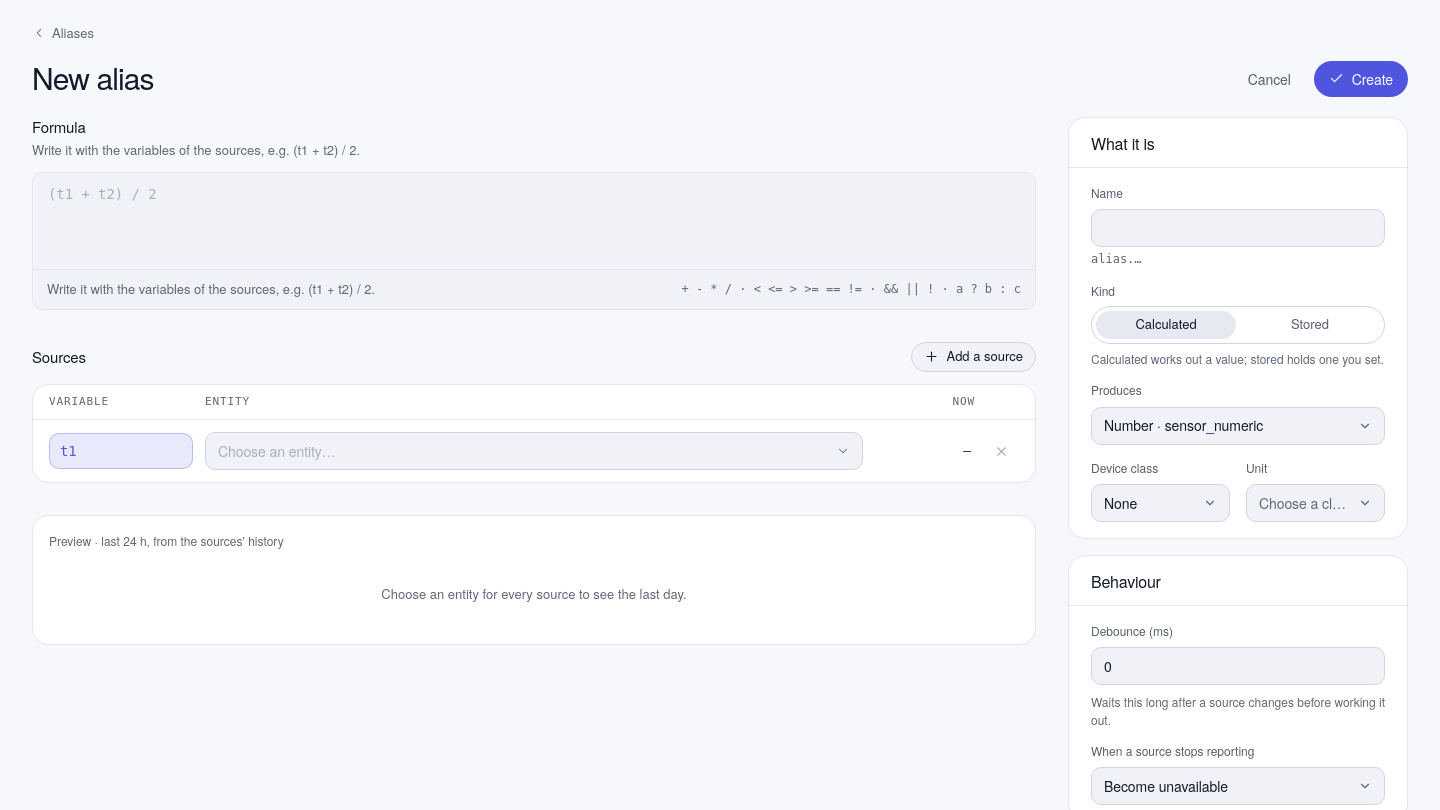
Test case: AliasEditor › selects the class canonical unit when the device class changes
This screenshot has width=1440, height=810.
expect the field labelled "Name" is shown: met, box [1091,209,1385,247]
Click the dropdown labelled "None" at x=1160, y=503, box [1091,484,1230,522]
(page scrolled)
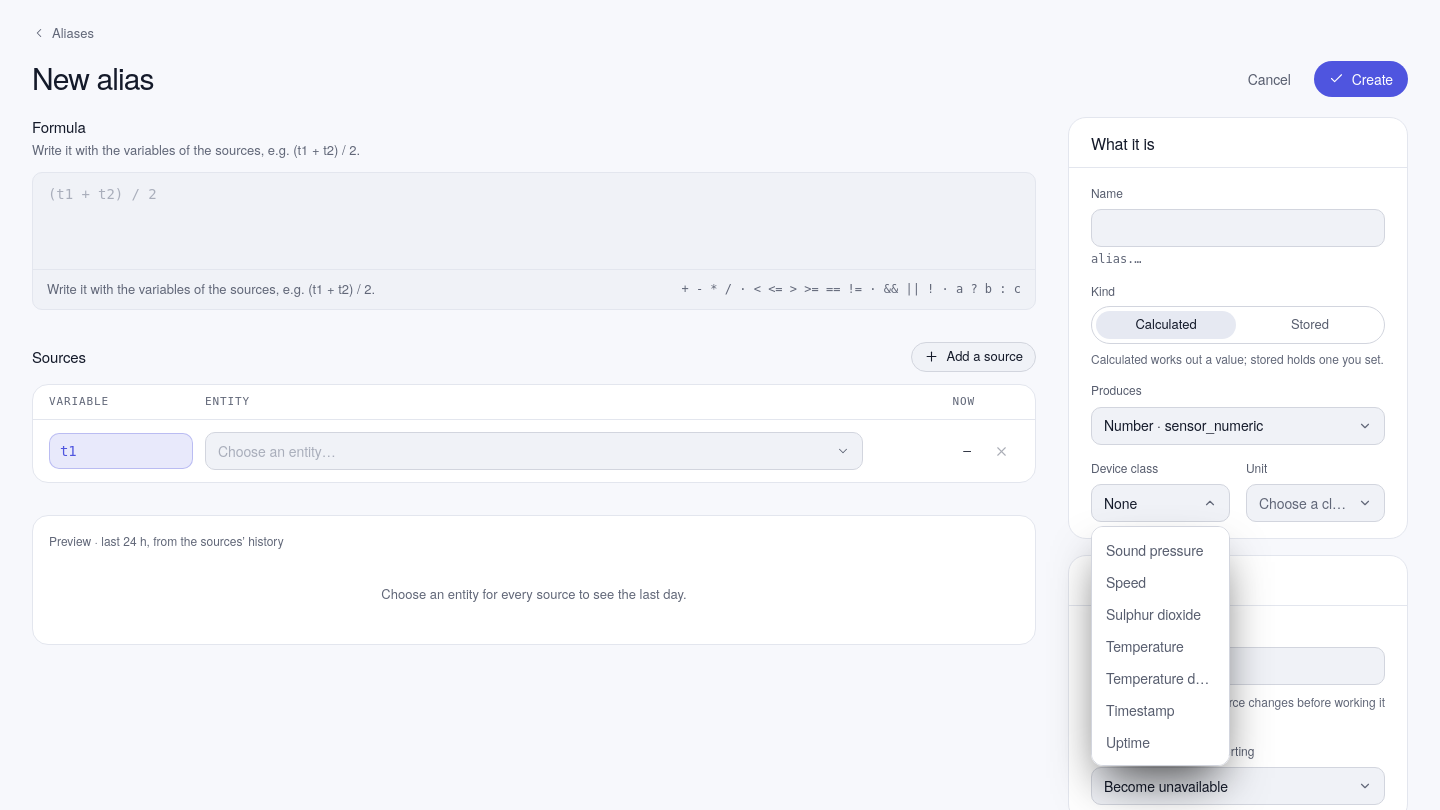
Click the option "Temperature" at x=1145, y=646, box [1106,636,1184,656]
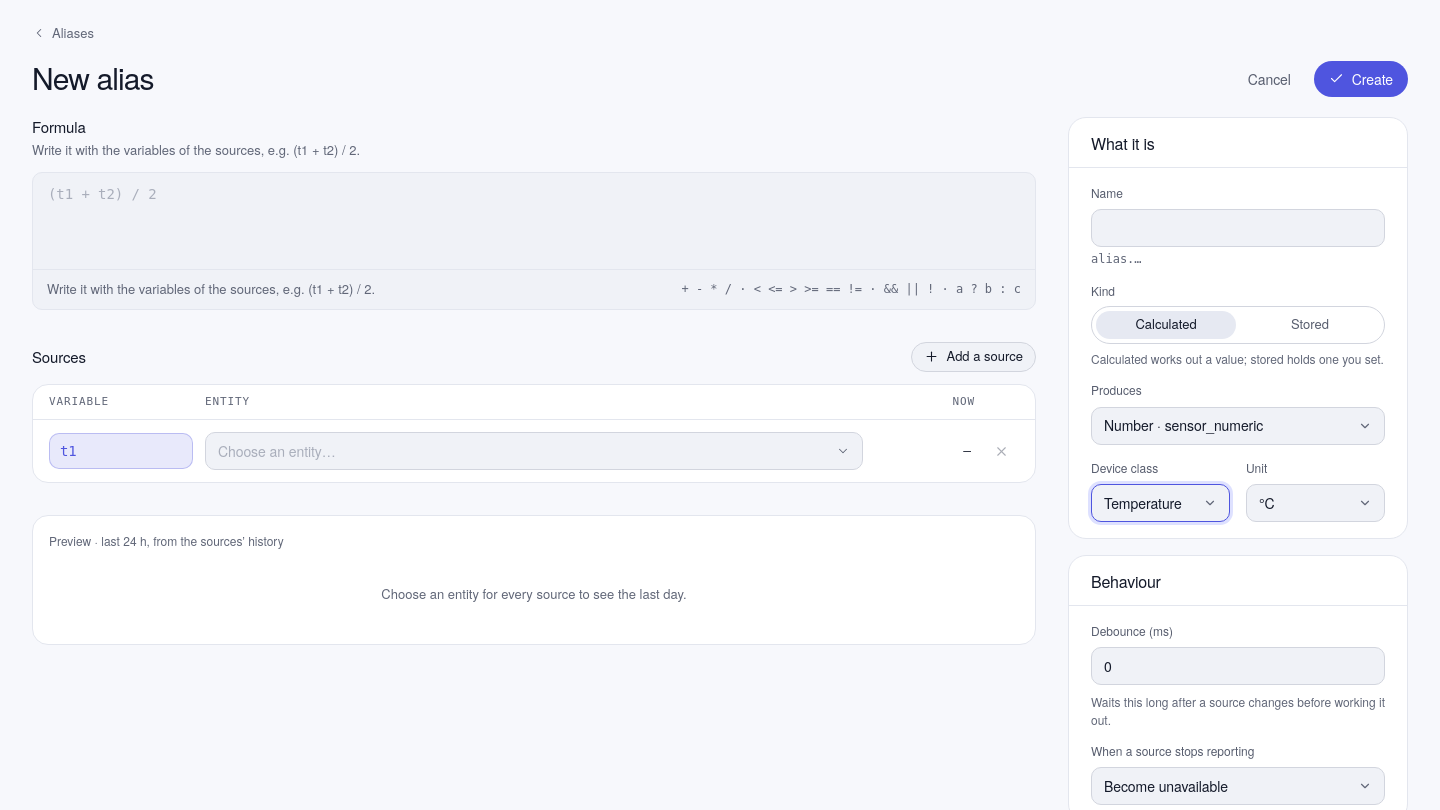
expect the dropdown named "Unit" reads "°C": met, box [1246,484,1385,522]
